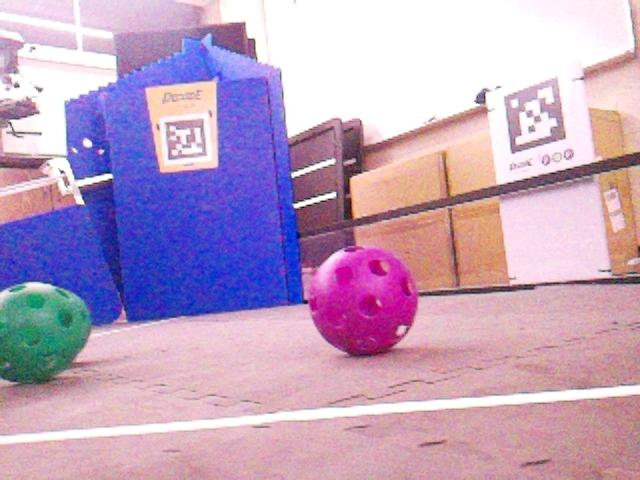Purple: (305, 244, 420, 355), (0, 279, 93, 384)
